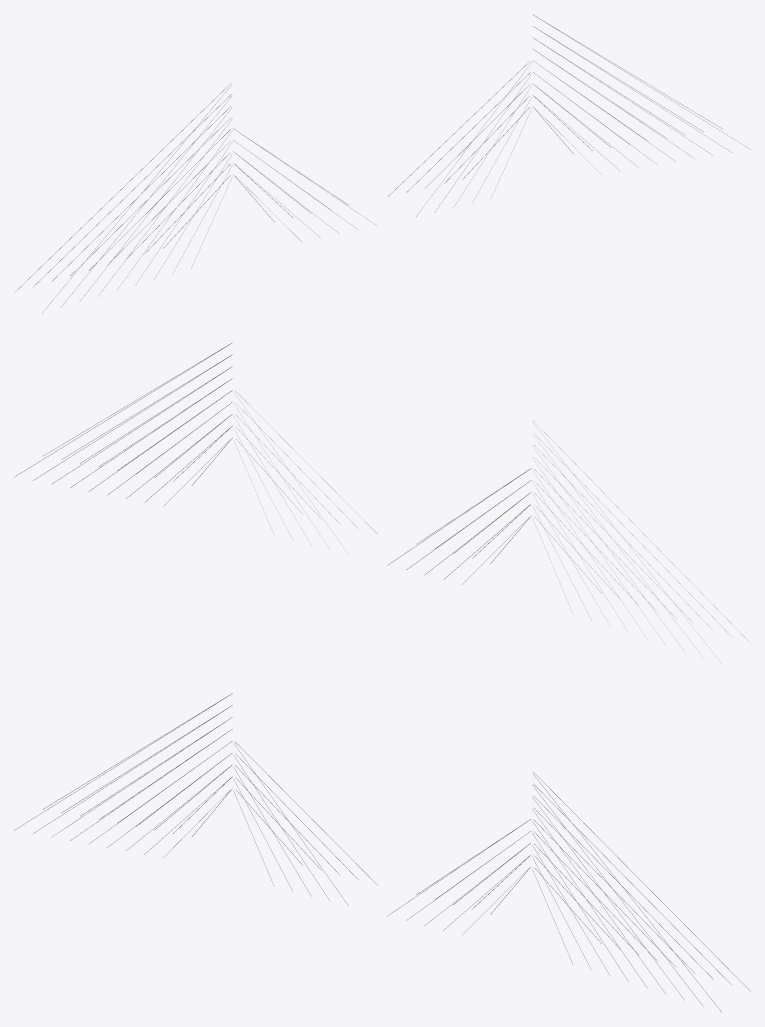
File: SM_Ponte_Stralli_LOD2.fbx
3 views of the same model, one above another, from view 1: azimuth 30°, elevation 25°; view 2: azimuth 150°, elevation 25°; view 3: azimuth 330°, elevation 25° (orthographic). The views are drawn at different scales.
Parts seen in each view (by area): view 1: SM_Ponte_Stralli_LOD2; view 2: SM_Ponte_Stralli_LOD2; view 3: SM_Ponte_Stralli_LOD2.
Part boxes in pixels (x1,y1,x2,y2): SM_Ponte_Stralli_LOD2: (14, 14, 750, 313); SM_Ponte_Stralli_LOD2: (14, 342, 750, 663); SM_Ponte_Stralli_LOD2: (14, 693, 750, 1012).
Bounding box in the file's own units: 11423 × 1132 × 2724.
Materials: 1 (1 with a texture image).
